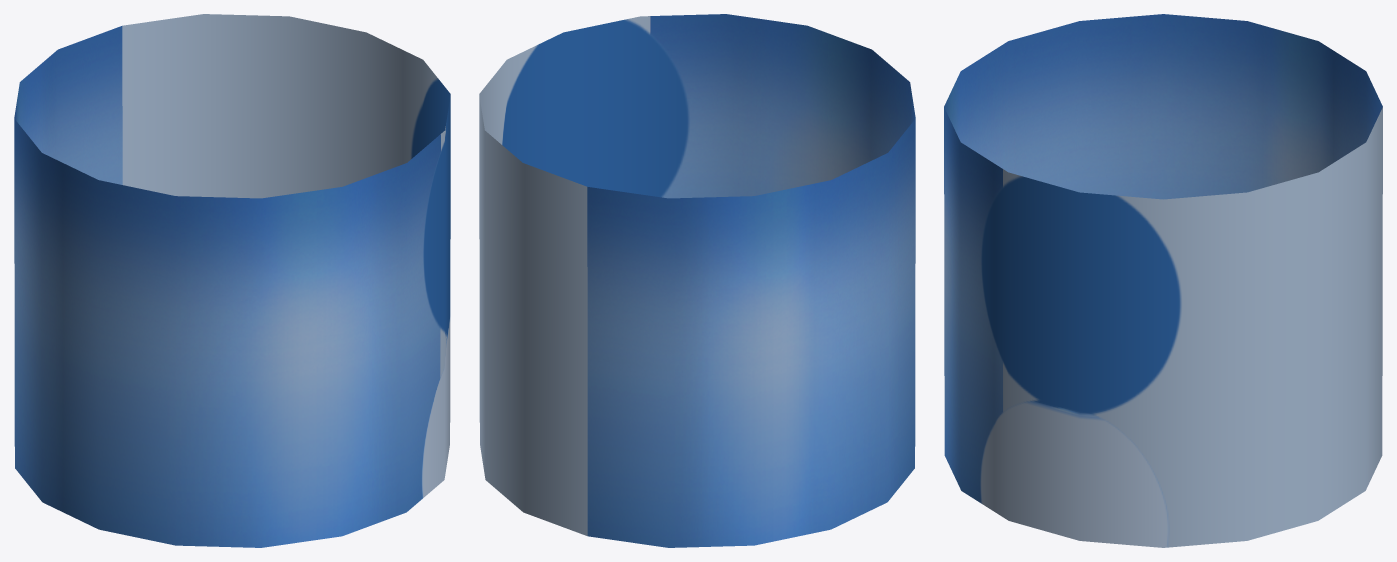
The model's file is Water_Bottle_Label_01.fbx.
The picture shows the model from 3 angles, left to right: view 1: azimuth 30°, elevation 25°; view 2: azimuth 150°, elevation 25°; view 3: azimuth 270°, elevation 25°; orthographic projection.
Visible parts, largest first — view 1: Water_Bottle_Label_01; view 2: Water_Bottle_Label_01; view 3: Water_Bottle_Label_01.
Boxes of the visible parts, bbox=[...] form: Water_Bottle_Label_01: bbox=[14, 14, 450, 547]; Water_Bottle_Label_01: bbox=[479, 14, 915, 547]; Water_Bottle_Label_01: bbox=[944, 14, 1382, 547].
Bounding box in the file's own units: 36 × 31.56 × 36.
